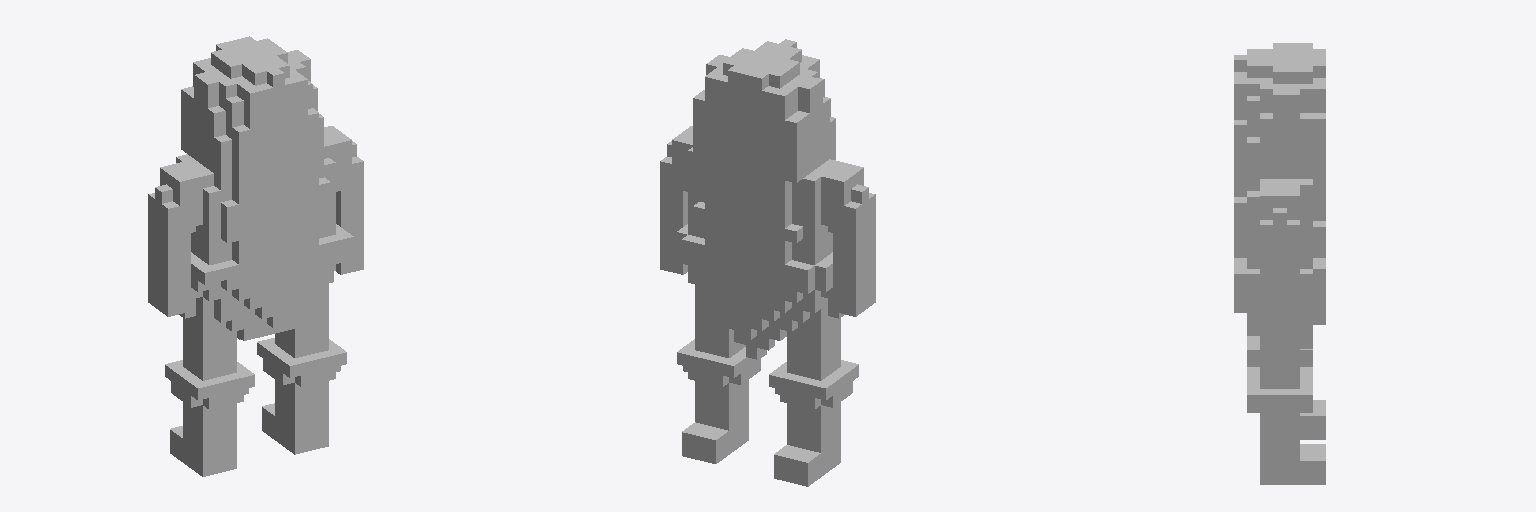
File: vikingless.obj
3 renders of one model, left to right at view 1: azimuth 30°, elevation 25°; view 2: azimuth 150°, elevation 25°; view 3: azimuth 270°, elevation 25°, orthographic.
Bounding box in the file's own units: 17 × 33 × 7.